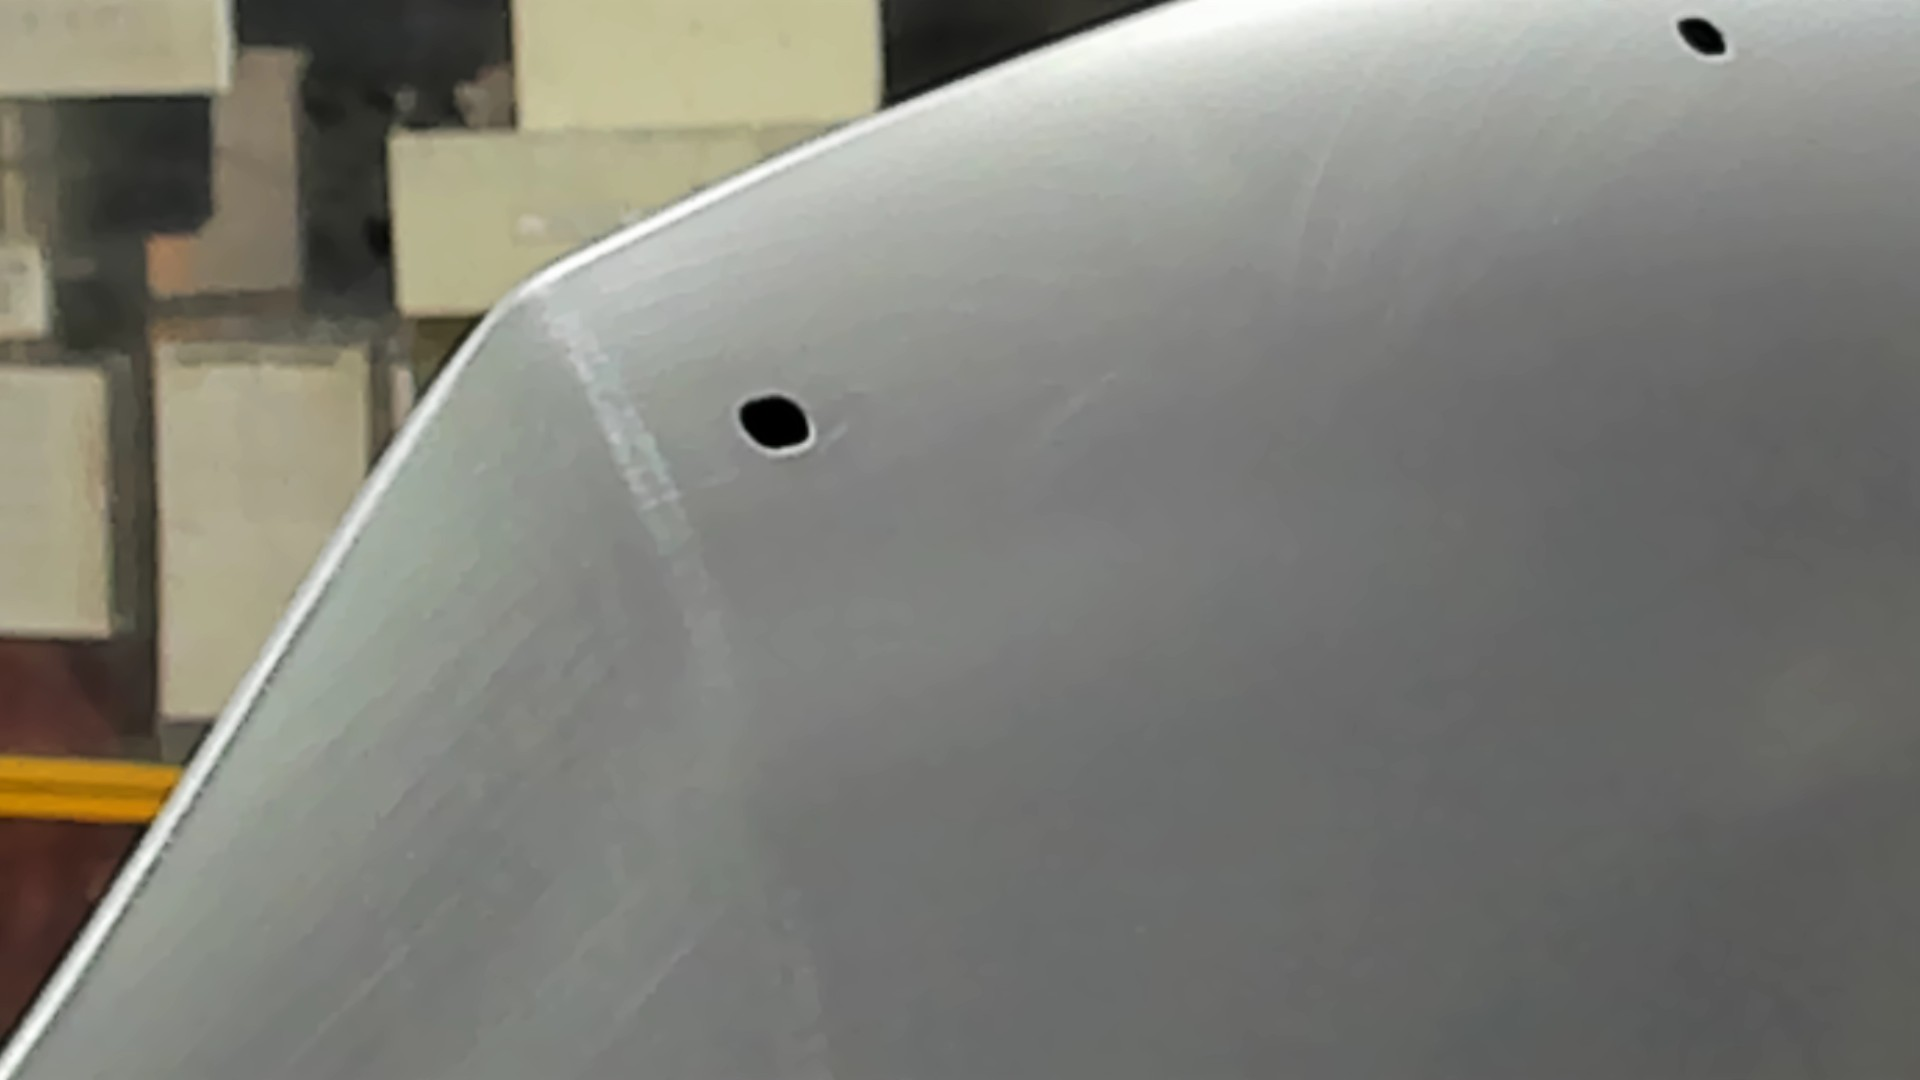amorfo: (729, 386, 825, 458), (1668, 9, 1739, 73)
capo: (943, 125, 1920, 1080)
